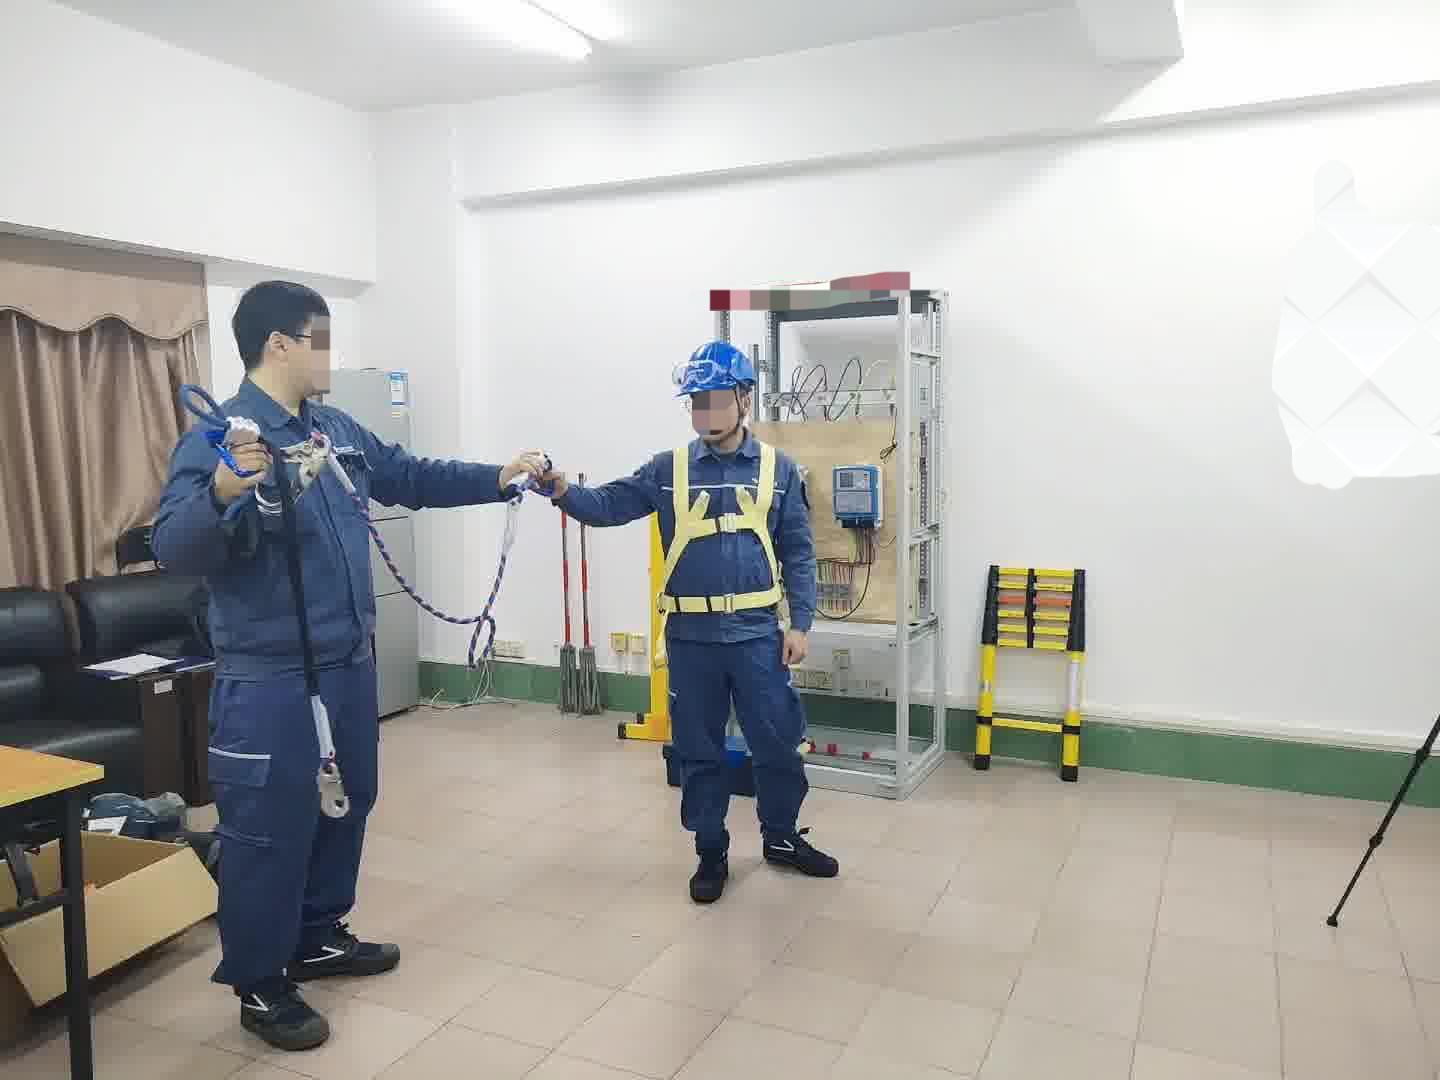halt: (678, 340, 764, 447)
inear: (732, 388, 761, 430)
noear: (257, 328, 306, 377)
unhalt: (230, 281, 347, 408)
